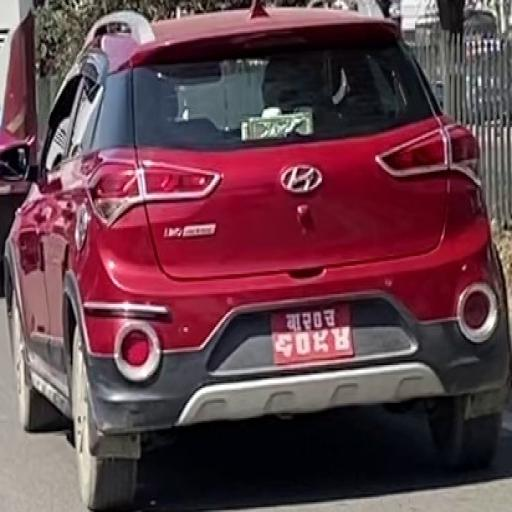license_plate: (267, 303, 355, 367)
